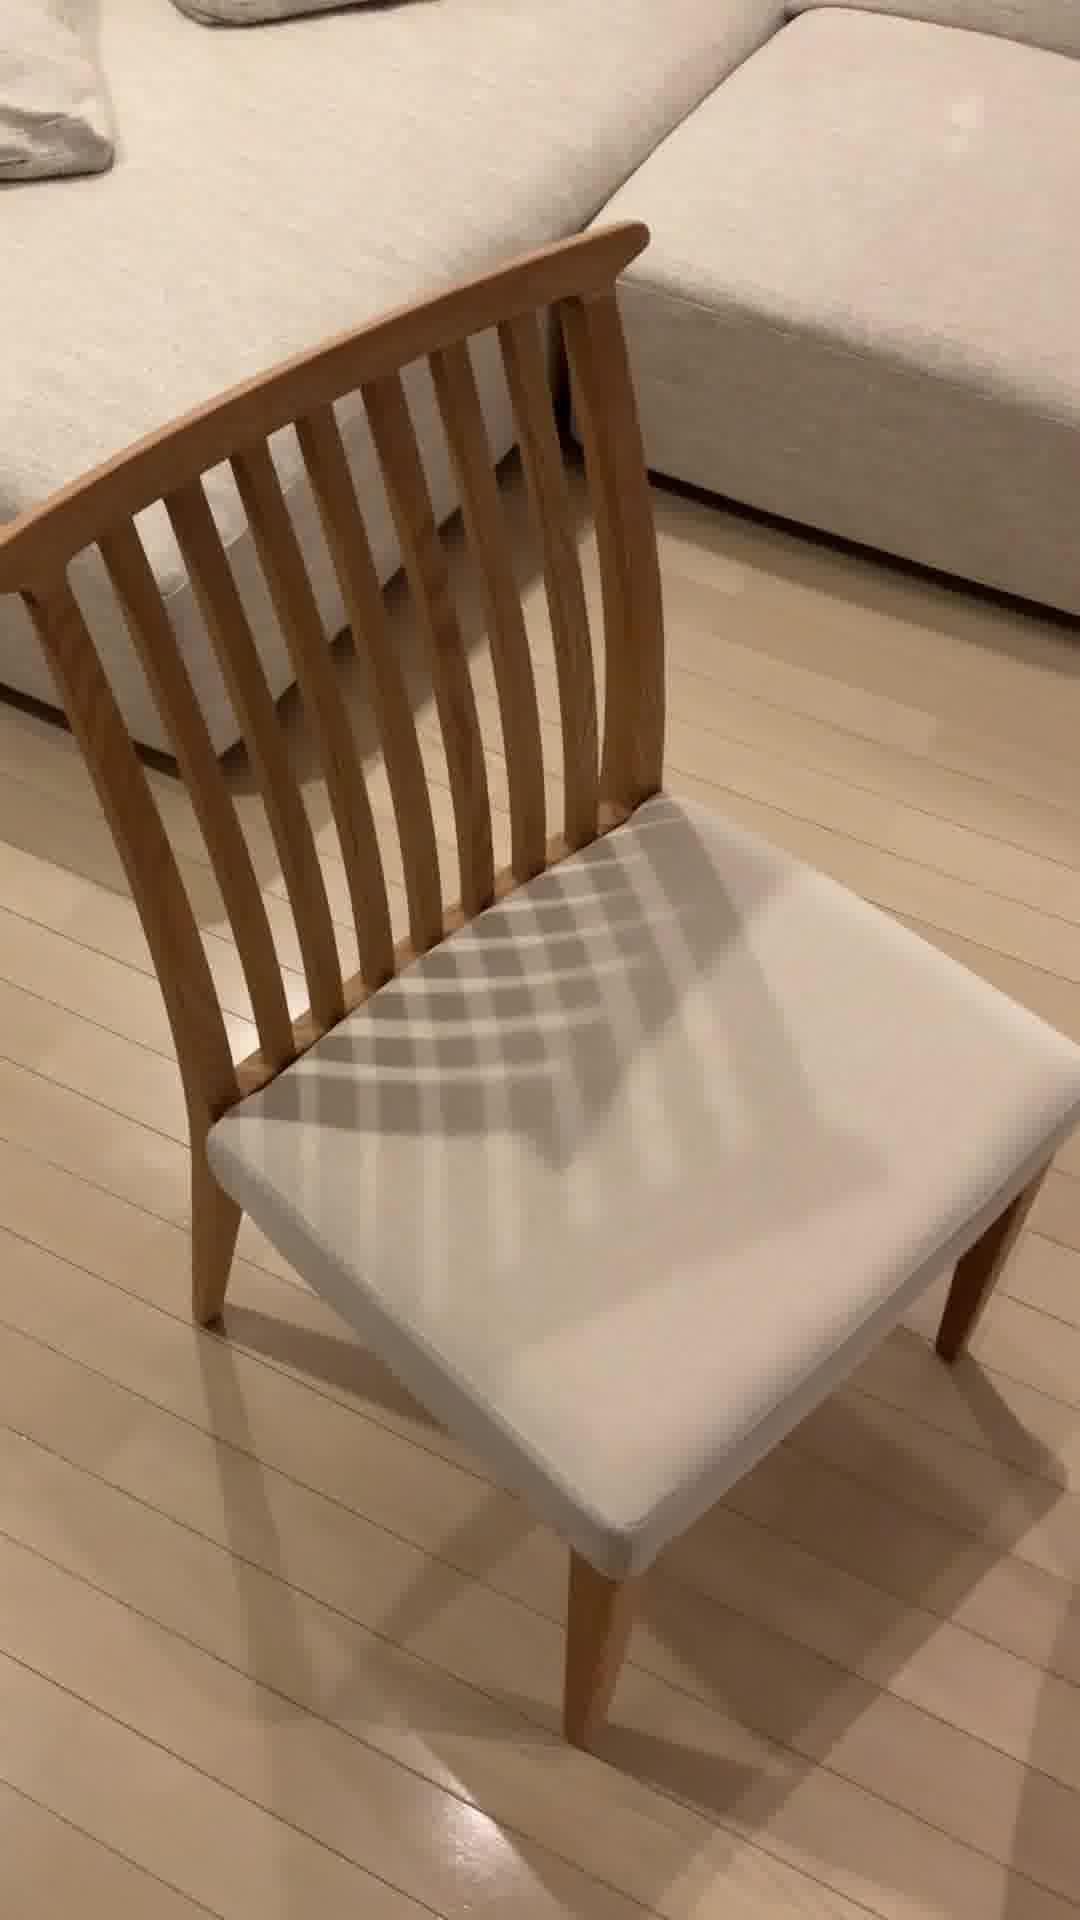takumikan-chair: (0, 218, 1080, 1753)
